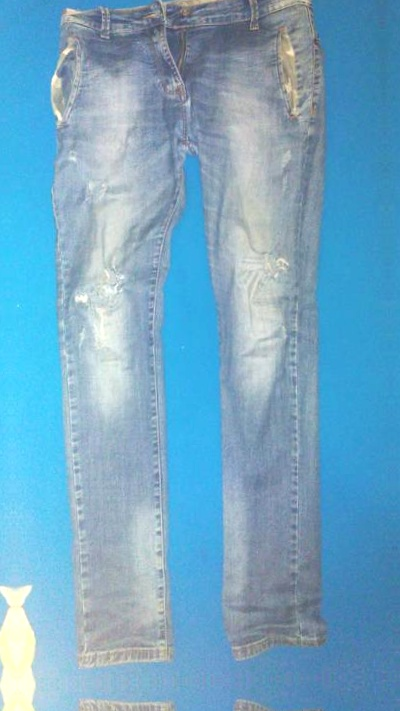Pants: (26, 0, 366, 665), (43, 697, 384, 711), (0, 706, 9, 711)
